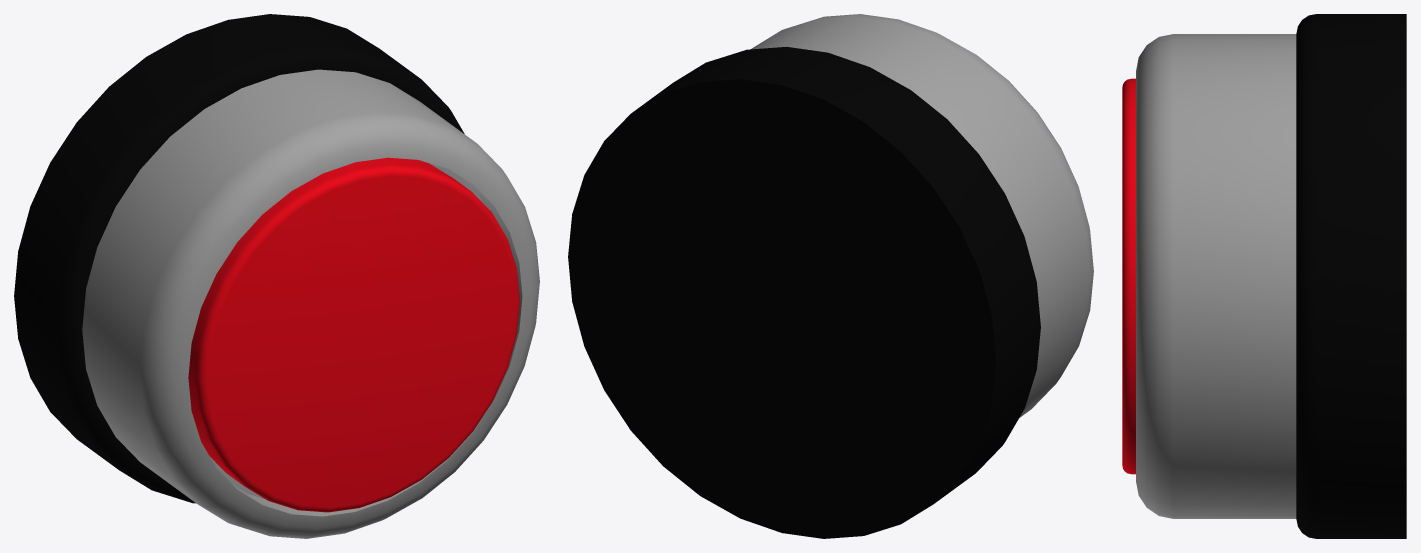
File: SimpleButton.fbx
3 renders of one model, left to right at view 1: azimuth 30°, elevation 25°; view 2: azimuth 150°, elevation 25°; view 3: azimuth 270°, elevation 25°, orthographic. The views are drawn at different scales.
Visible parts, largest first — view 1: Cylinder.001, Cylinder.004; view 2: Cylinder.001; view 3: Cylinder.001, Cylinder.004.
Part boxes in pixels (x1,y1,x2,y2): Cylinder.001: (14, 14, 539, 538); Cylinder.004: (188, 157, 519, 512); Cylinder.001: (568, 14, 1093, 538); Cylinder.001: (1136, 14, 1406, 538); Cylinder.004: (1122, 78, 1135, 474).
Size of the model in its own units: 2.9 by 2.9 by 1.57.
